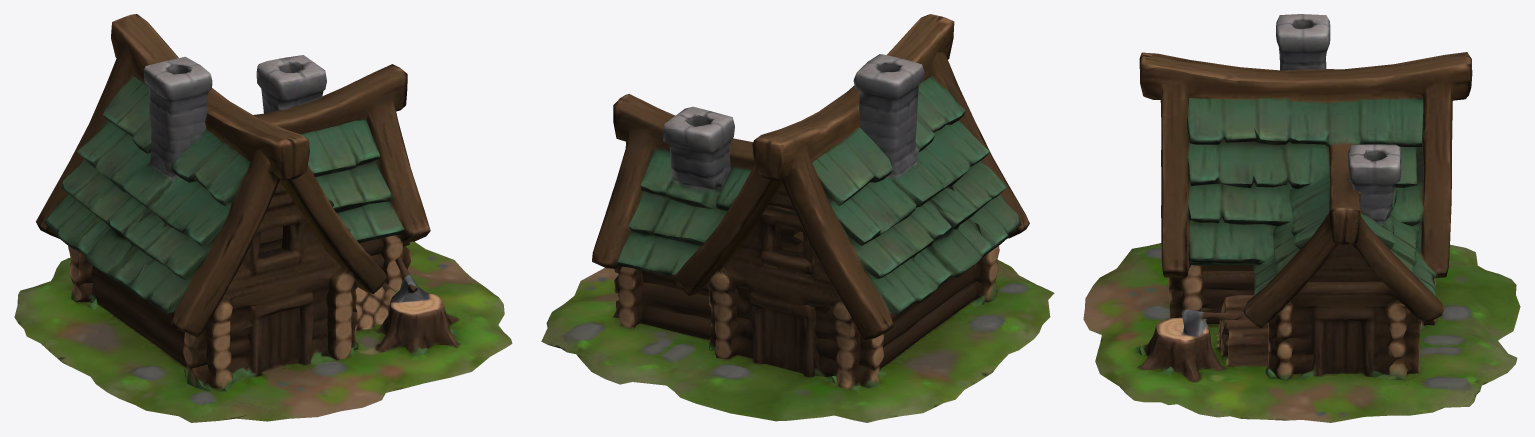
File: village_forest_a.glb
The picture shows the model from 3 angles, left to right: view 1: azimuth 30°, elevation 25°; view 2: azimuth 150°, elevation 25°; view 3: azimuth 270°, elevation 25°; orthographic projection. The views are drawn at different scales.
Visible parts, largest first — view 1: world; view 2: world; view 3: world.
Part boxes in pixels (box(x1,y1,x2,y2)): world: box(14, 14, 512, 422); world: box(541, 14, 1054, 422); world: box(1083, 14, 1520, 422).
Bounding box in the file's own units: 0.9817 × 0.6424 × 0.9634.
1 material, 1 textured.
